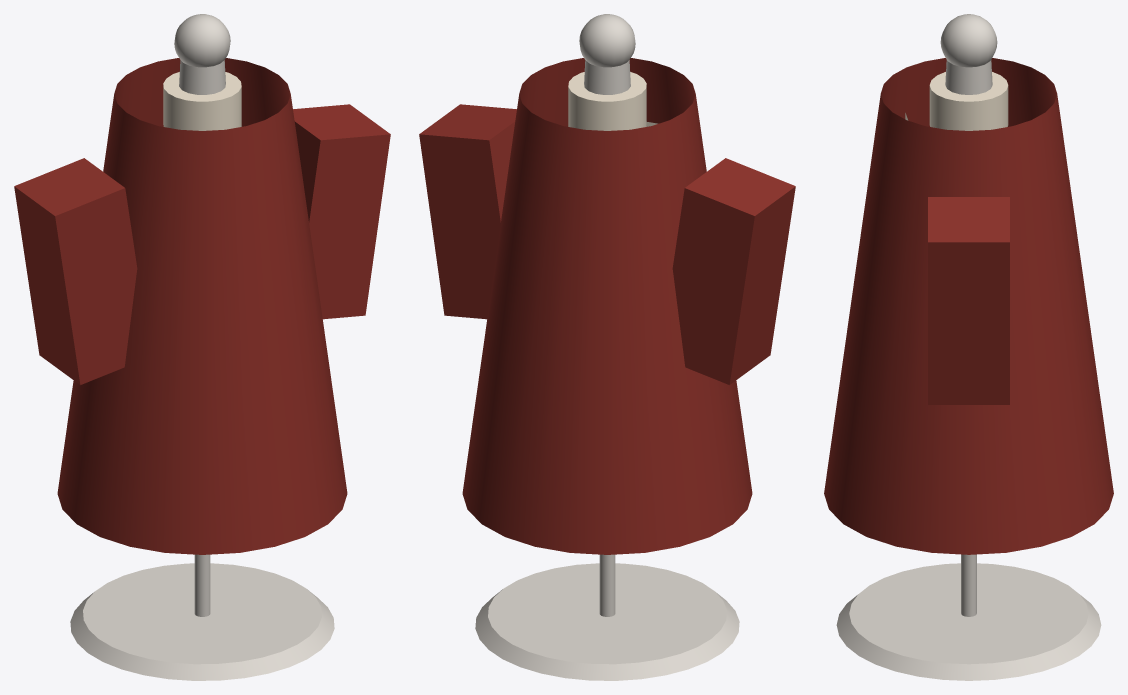
File: artifact-recon-ao_tac-1791274364773.glb
The picture shows the model from 3 angles, left to right: view 1: azimuth 30°, elevation 25°; view 2: azimuth 150°, elevation 25°; view 3: azimuth 270°, elevation 25°; orthographic projection.
Visible parts, largest first — view 1: outer_body, mannequin, wide_right_sleeve, wide_left_sleeve, standing_collar; view 2: outer_body, mannequin, wide_right_sleeve, wide_left_sleeve, standing_collar; view 3: outer_body, mannequin, wide_left_sleeve, standing_collar.
Part boxes in pixels (box(x1,y1,x2,y2)): outer_body: box(57, 58, 347, 554); mannequin: box(70, 14, 334, 680); wide_right_sleeve: box(14, 158, 137, 384); wide_left_sleeve: box(293, 104, 390, 319); standing_collar: box(163, 72, 241, 130); outer_body: box(462, 58, 752, 554); mannequin: box(475, 14, 739, 680); wide_right_sleeve: box(672, 158, 795, 384); wide_left_sleeve: box(419, 104, 516, 319); standing_collar: box(568, 72, 646, 130); outer_body: box(824, 58, 1113, 554); mannequin: box(836, 14, 1101, 680); wide_left_sleeve: box(928, 197, 1009, 404); standing_collar: box(929, 72, 1008, 130).
Bounding box in the file's own units: 1.23 × 2.13 × 0.92.
